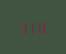one: (28, 20, 36, 33)
three: (18, 20, 26, 34)
zero: (37, 19, 45, 33)
